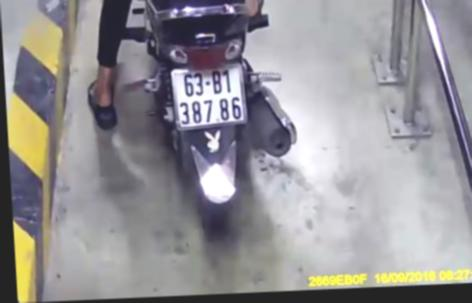License_Plate: (161, 58, 251, 134)
